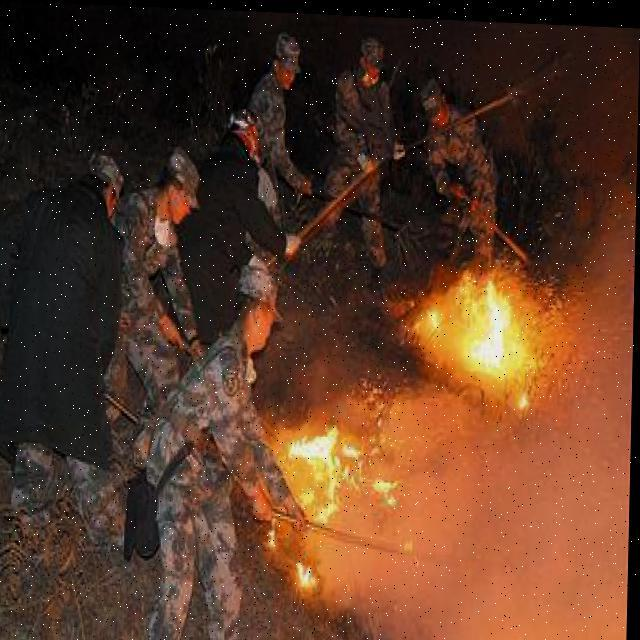Fire: (286, 402, 403, 594), (410, 247, 550, 405)
